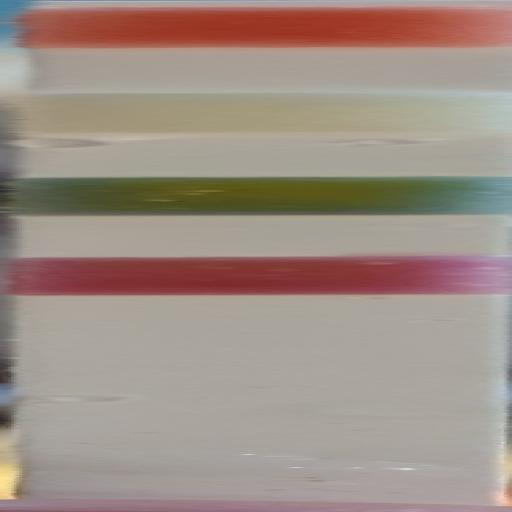pads: (0, 5, 512, 48), (8, 91, 512, 134), (0, 176, 512, 216), (0, 256, 512, 295)
